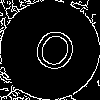O: (25, 25, 81, 84)
